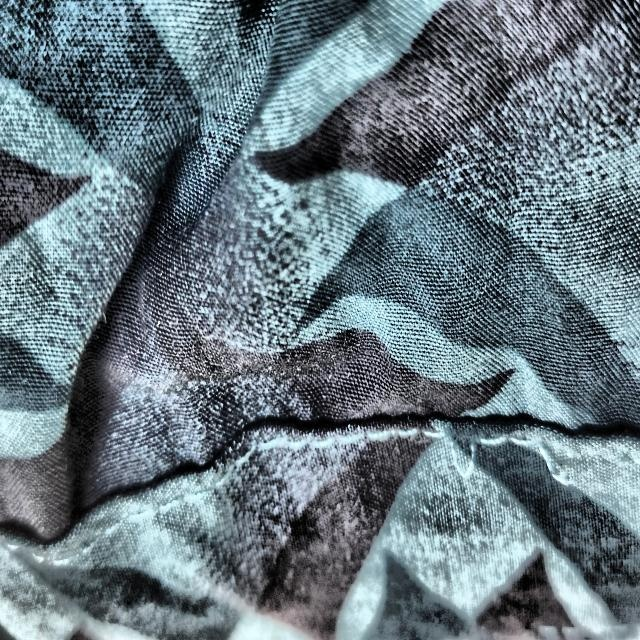Stitch: (402, 389, 604, 525)
